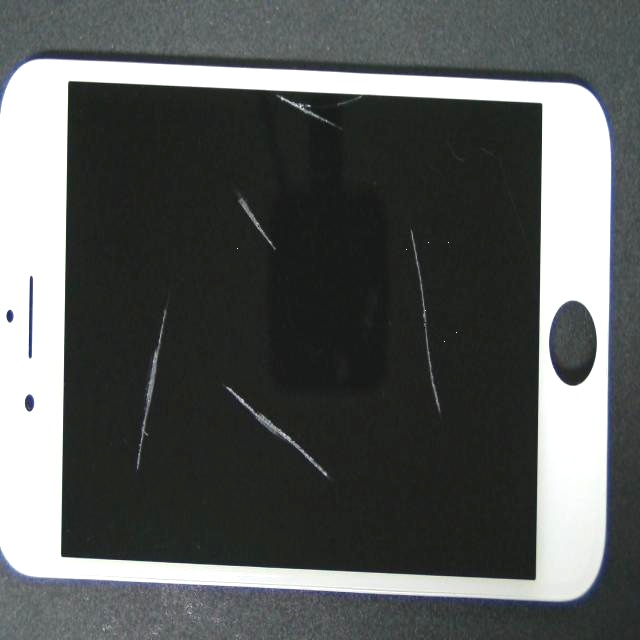scratch: (218, 106, 613, 321), (107, 54, 451, 210), (118, 106, 354, 330)
